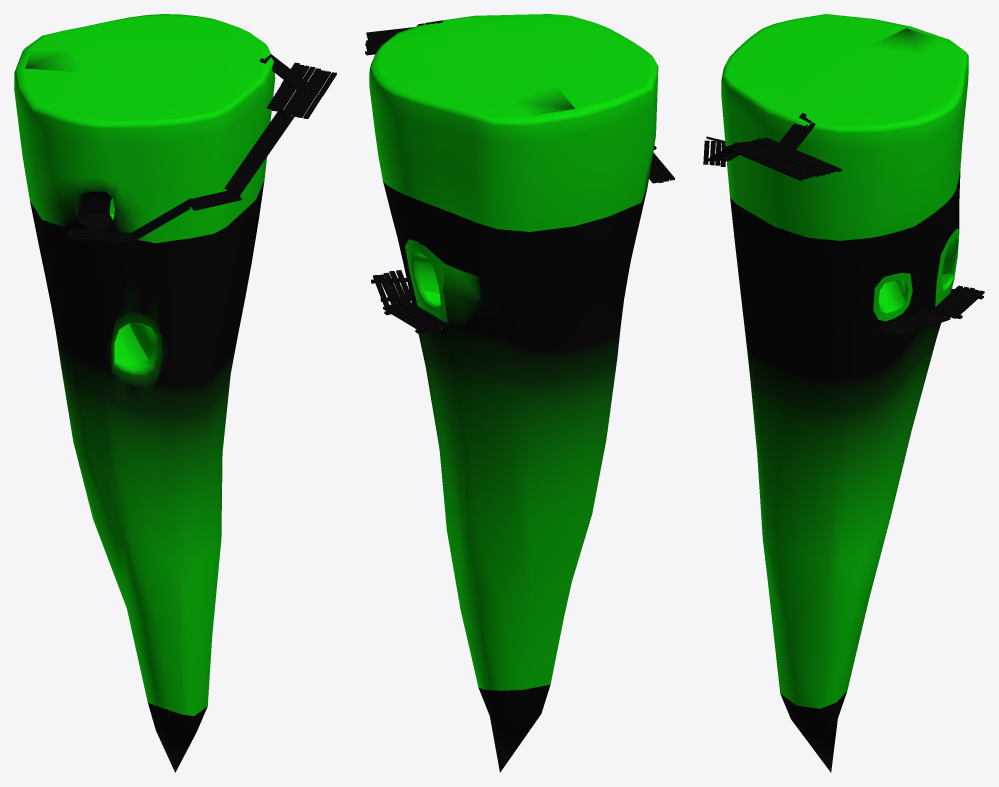
The model's file is Tunnel island.fbx.
3 renders of one model, left to right at view 1: azimuth 30°, elevation 25°; view 2: azimuth 150°, elevation 25°; view 3: azimuth 270°, elevation 25°, orthographic. The views are drawn at different scales.
Visible parts, largest first — view 1: pCube76; view 2: pCube76; view 3: pCube76.
Boxes of the visible parts, bbox=[...] form: pCube76: bbox=[14, 14, 336, 772]; pCube76: bbox=[365, 14, 674, 772]; pCube76: bbox=[703, 14, 984, 772].
Size of the model in its own units: 60.39 by 140 by 51.22.
